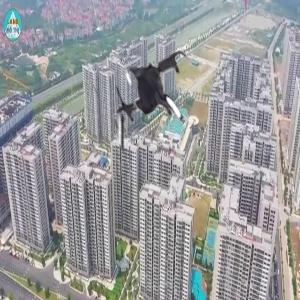drone: (100, 41, 205, 146)
